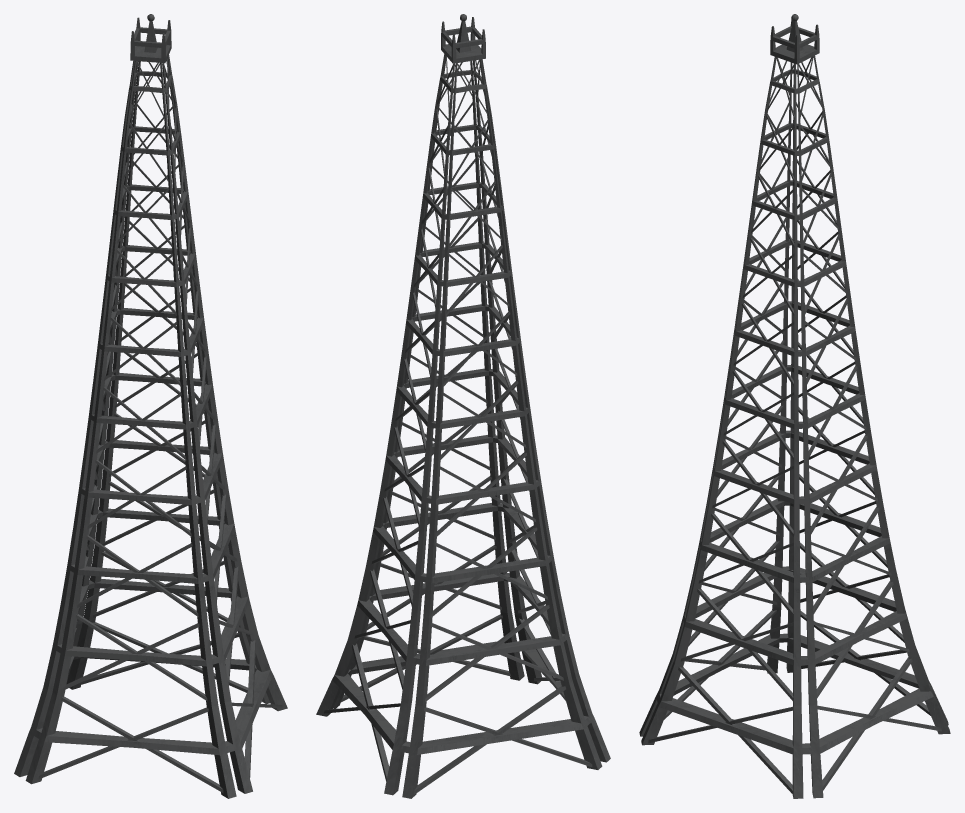
3 renders of one model, left to right at view 1: azimuth 30°, elevation 25°; view 2: azimuth 150°, elevation 25°; view 3: azimuth 270°, elevation 25°, orthographic.
Visible parts, largest first — view 1: radio_tower003_metal3_0; view 2: radio_tower003_metal3_0; view 3: radio_tower003_metal3_0.
Part boxes in pixels (x1,y1,x2,y2): radio_tower003_metal3_0: [14, 17, 287, 798]; radio_tower003_metal3_0: [316, 17, 610, 798]; radio_tower003_metal3_0: [639, 19, 950, 798].
Bounding box in the file's own units: 11.92 × 30.38 × 11.92.
Materials: 1 (1 with a texture image).
